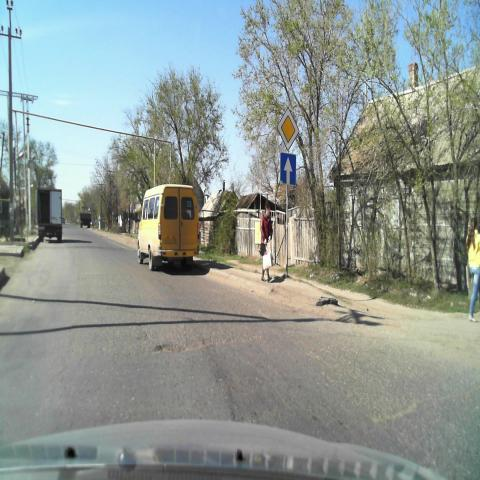5_5: (279, 152, 296, 186)
